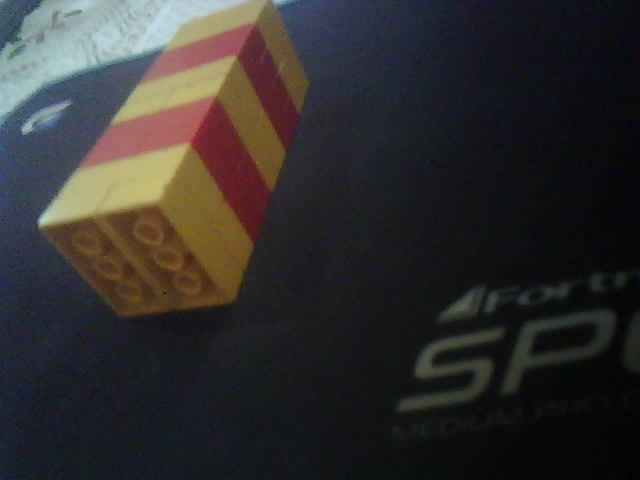lego: (36, 1, 311, 321)
